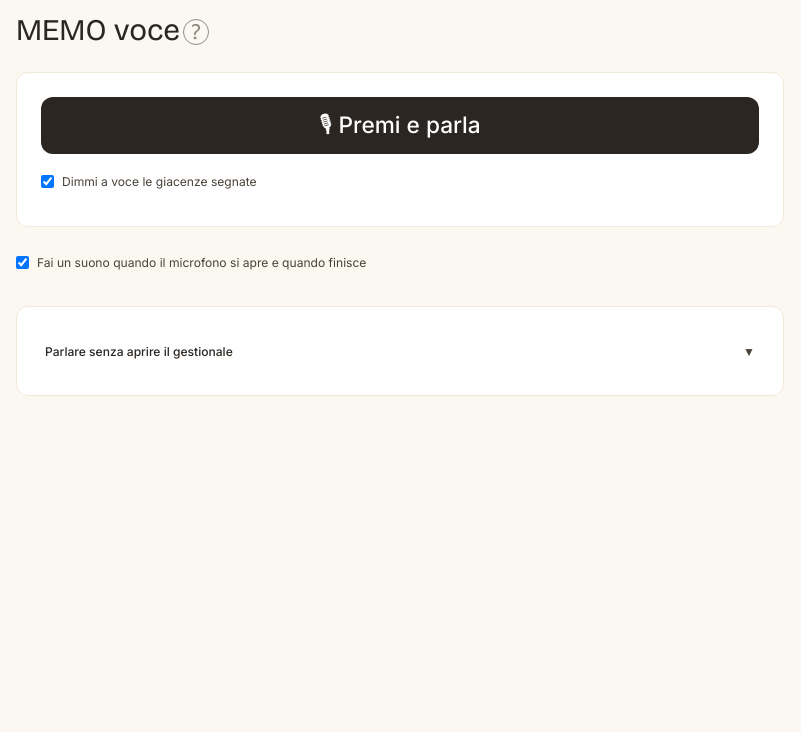
Test case: 🔴 la scheda dell'appunto appena detto compare subito › 🔴 una RISPOSTA non fa comparire nessuna scheda
Step 1. Click the button "🎙 Premi e parla" → coordinates (400, 126), box x1=41 y1=97 x2=759 y2=154
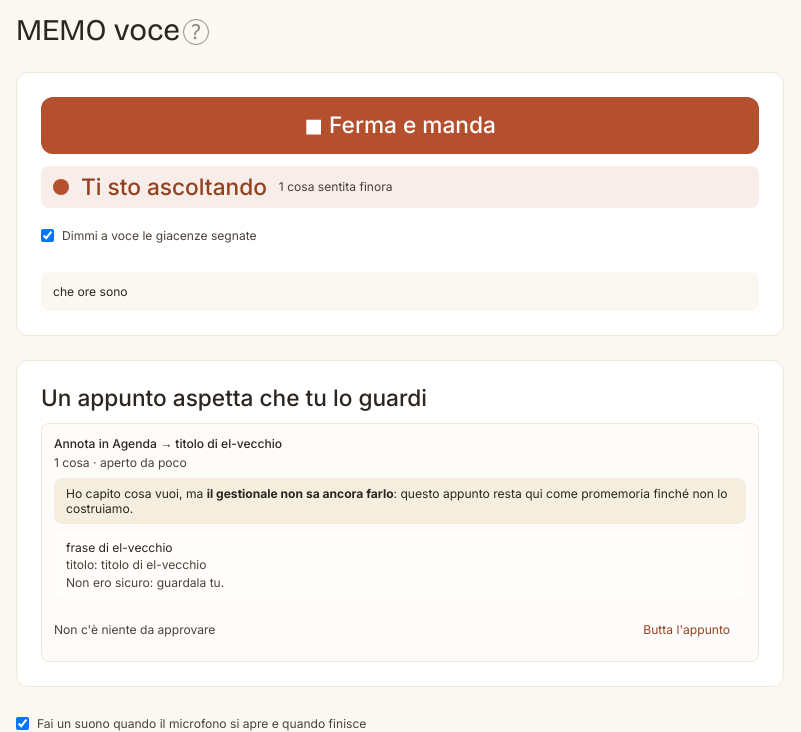
Step 2. Click the button "◼ Ferma e manda" → coordinates (400, 126), box x1=41 y1=97 x2=759 y2=154
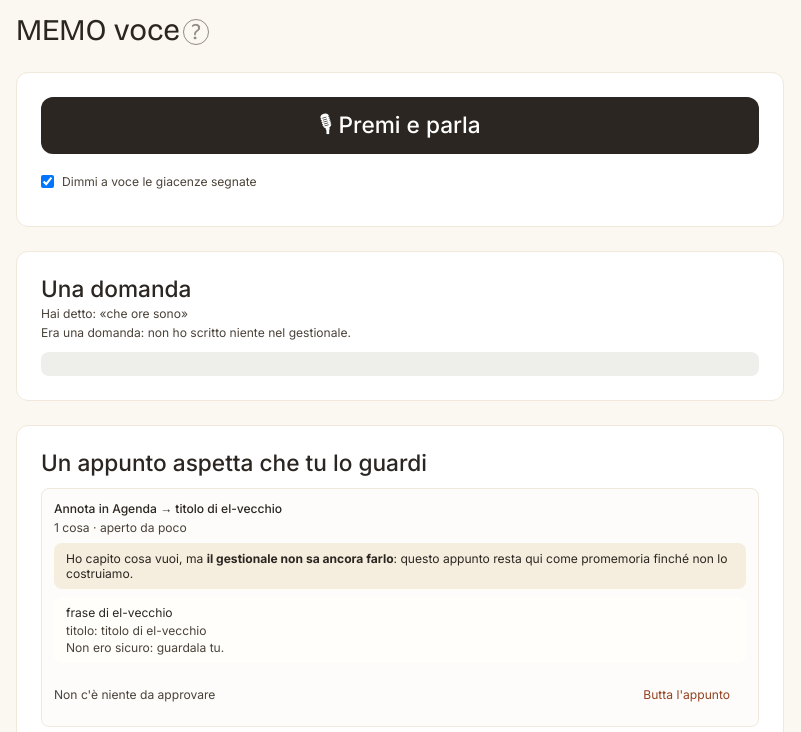
Expected: the heading "Una domanda" is shown, x1=41 y1=275 x2=192 y2=302
